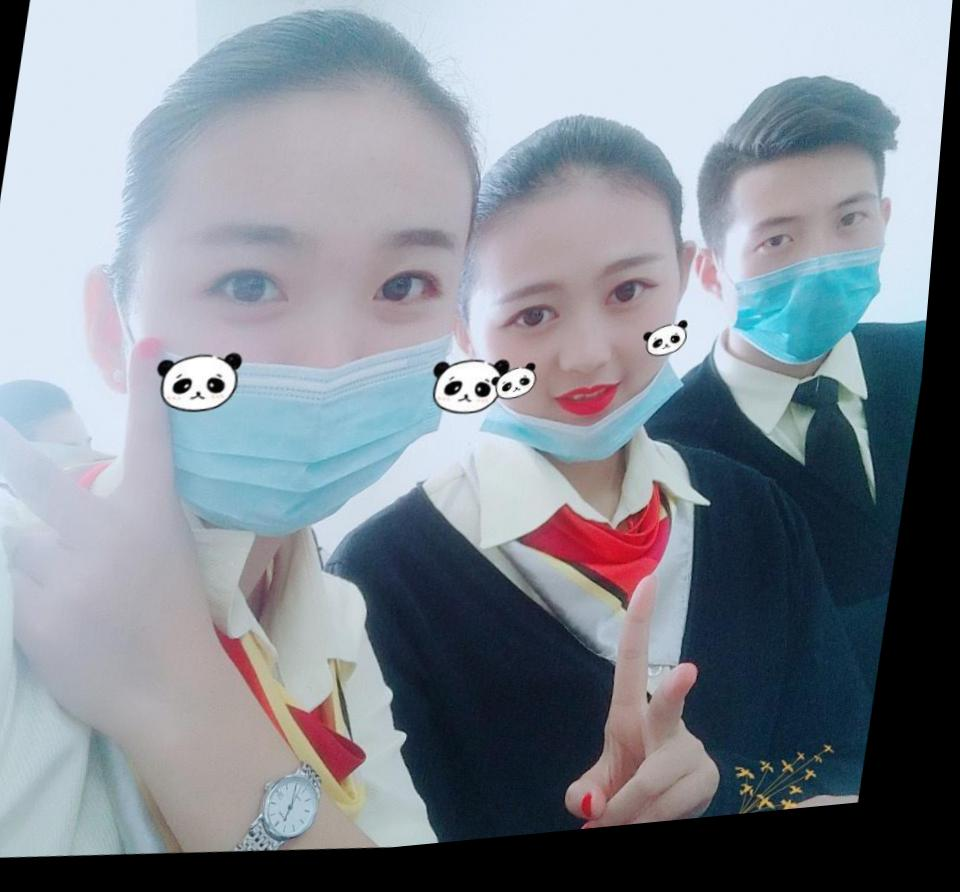OK: (701, 177, 914, 392)
WRONG: (111, 161, 489, 564), (463, 227, 697, 488)
